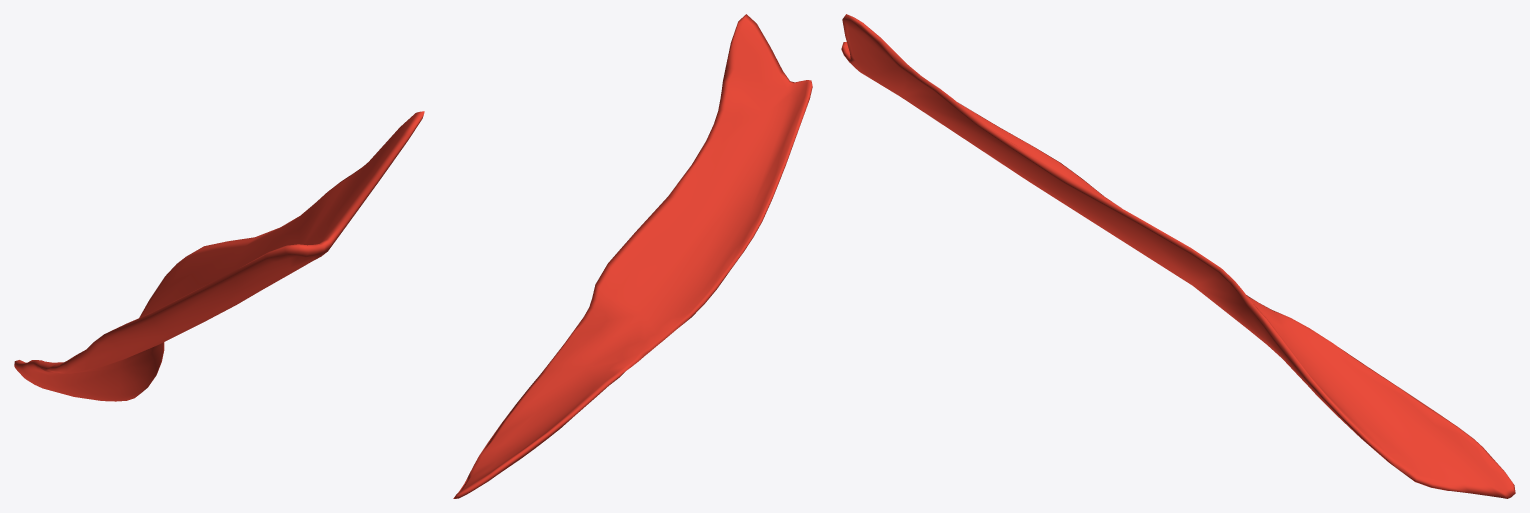
File: Gracilis_muscle-Pubic_insertion.l_Generated_Mesh_From_X3D.807.glb
The picture shows the model from 3 angles, left to right: view 1: azimuth 30°, elevation 25°; view 2: azimuth 150°, elevation 25°; view 3: azimuth 270°, elevation 25°; orthographic projection. The views are drawn at different scales.
Parts seen in each view (by area): view 1: Gracilis_muscle-Pubic_insertion.l_Generated_Mesh_From_X3D.80; view 2: Gracilis_muscle-Pubic_insertion.l_Generated_Mesh_From_X3D.80; view 3: Gracilis_muscle-Pubic_insertion.l_Generated_Mesh_From_X3D.80.
Part boxes in pixels (<box>): Gracilis_muscle-Pubic_insertion.l_Generated_Mesh_From_X3D.80: <box>14,111,424,401</box>; Gracilis_muscle-Pubic_insertion.l_Generated_Mesh_From_X3D.80: <box>453,14,812,498</box>; Gracilis_muscle-Pubic_insertion.l_Generated_Mesh_From_X3D.80: <box>841,14,1515,498</box>.
Size of the model in its own units: 0.0138 by 0.0293 by 0.04.
